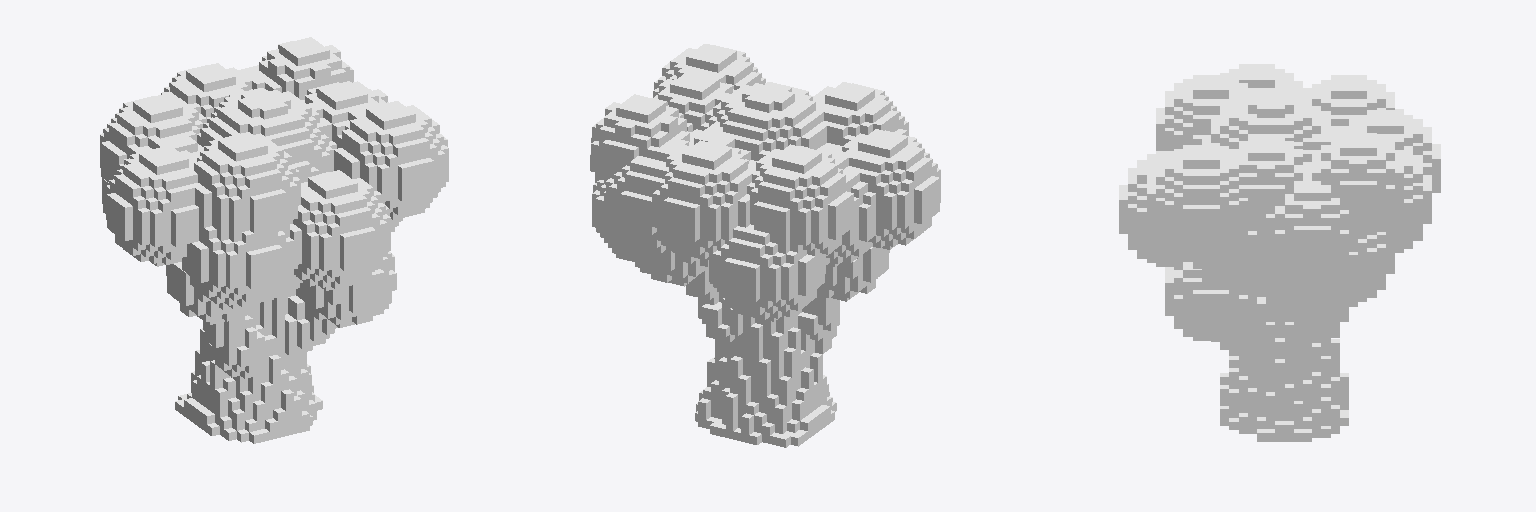
The model's file is Broccoli.obj.
3 views of the same model, side by side, from view 1: azimuth 30°, elevation 25°; view 2: azimuth 150°, elevation 25°; view 3: azimuth 270°, elevation 25° (orthographic).
Visible parts, largest first — view 1: object 1; view 2: object 1; view 3: object 1.
Boxes of the visible parts, box(x1,y1,x2,y2) form: object 1: box(100, 37, 448, 443); object 1: box(590, 44, 940, 447); object 1: box(1119, 64, 1440, 441).
Size of the model in its own units: 3.8 by 3.8 by 3.5.